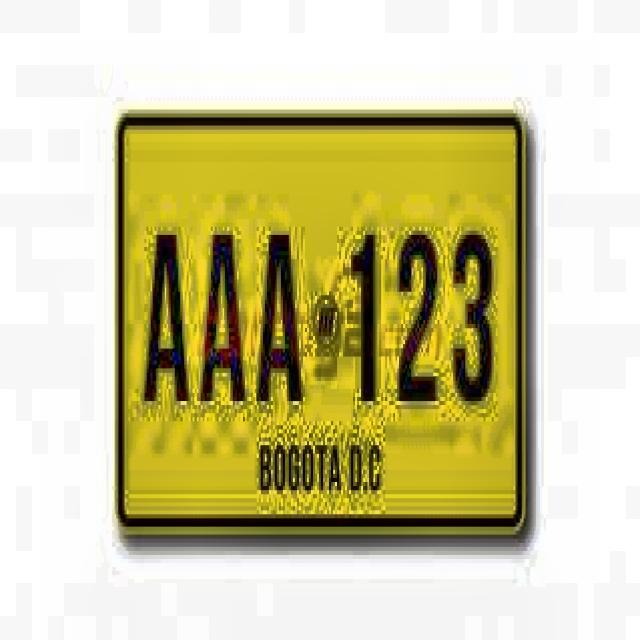plate: (119, 117, 523, 527)
